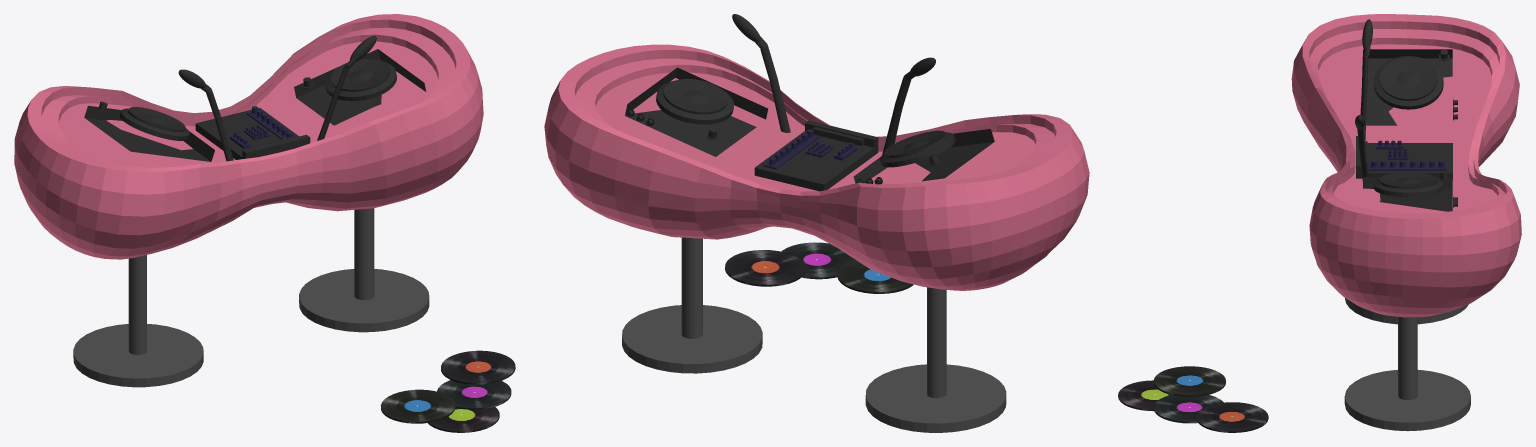
Rendered from djBooth.glb.
The picture shows the model from 3 angles, left to right: view 1: azimuth 30°, elevation 25°; view 2: azimuth 150°, elevation 25°; view 3: azimuth 270°, elevation 25°; orthographic projection. The views are drawn at different scales.
Visible parts, largest first — view 1: booth, foot2, foot1, turntable 2, turntable1, console, Circle.002, k, leg1, leg2, mic.001, Circle (+1 smaller); view 2: booth, foot2, foot1, turntable 2, console, turntable1, k, mic.001, leg1, leg2, Circle, Circle.002; view 3: booth, foot1, turntable1, turntable 2, console, k, Circle.002, leg1, Circle, mic.001, Circle.001, foot2 (+2 smaller).
Part boxes in pixels (bbox=[...]): booth: bbox=[14, 14, 483, 259]; foot2: bbox=[73, 324, 203, 387]; foot1: bbox=[299, 269, 429, 332]; turntable 2: bbox=[294, 49, 426, 125]; turntable1: bbox=[84, 101, 214, 161]; console: bbox=[195, 107, 310, 159]; Circle.002: bbox=[380, 389, 455, 423]; k: bbox=[441, 350, 515, 384]; leg1: bbox=[354, 208, 374, 300]; leg2: bbox=[128, 255, 146, 354]; mic.001: bbox=[178, 35, 376, 161]; Circle: bbox=[437, 380, 511, 409]; booth: bbox=[544, 44, 1089, 290]; foot2: bbox=[865, 364, 1006, 432]; foot1: bbox=[622, 305, 762, 373]; turntable 2: bbox=[625, 67, 767, 156]; console: bbox=[754, 120, 878, 191]; turntable1: bbox=[853, 129, 994, 184]; k: bbox=[725, 250, 805, 286]; mic.001: bbox=[732, 14, 935, 154]; leg1: bbox=[681, 237, 702, 338]; leg2: bbox=[927, 287, 946, 398]; Circle: bbox=[781, 242, 855, 279]; Circle.002: bbox=[837, 260, 913, 293]; booth: bbox=[1291, 14, 1521, 317]; foot1: bbox=[1344, 369, 1470, 431]; turntable1: bbox=[1363, 49, 1457, 125]; turntable 2: bbox=[1363, 171, 1457, 211]; console: bbox=[1356, 136, 1452, 179]; k: bbox=[1196, 402, 1268, 432]; Circle.002: bbox=[1153, 366, 1225, 396]; leg1: bbox=[1398, 316, 1417, 399]; Circle: bbox=[1153, 394, 1223, 423]; mic.001: bbox=[1355, 19, 1372, 181]; Circle.001: bbox=[1118, 380, 1170, 411]; foot2: bbox=[1345, 298, 1468, 324].
Size of the model in its own units: 5.63 by 3.71 by 4.56.
Materials: 8 (4 with a texture image).
